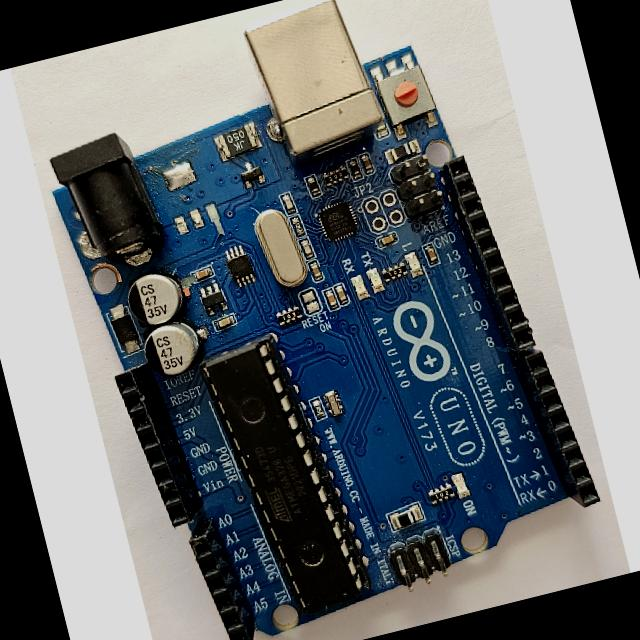missing_voltage_reg: (144, 143, 230, 244)
